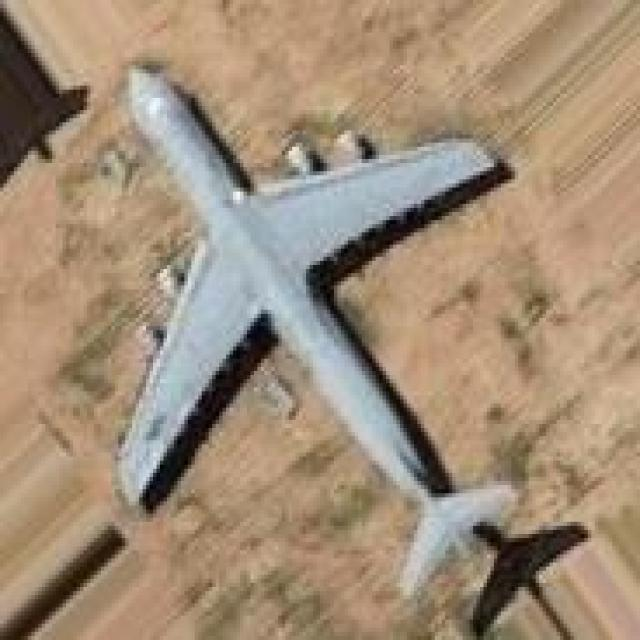C-5_TopDown: (104, 53, 588, 636)
